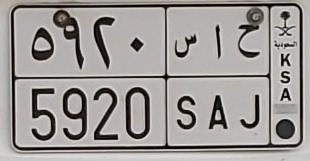0: (124, 37, 152, 141)
2: (92, 14, 120, 141)
5: (29, 26, 57, 142)
9: (61, 17, 88, 141)
A: (208, 24, 230, 130)
J: (237, 23, 262, 129)
S: (174, 33, 199, 130)
